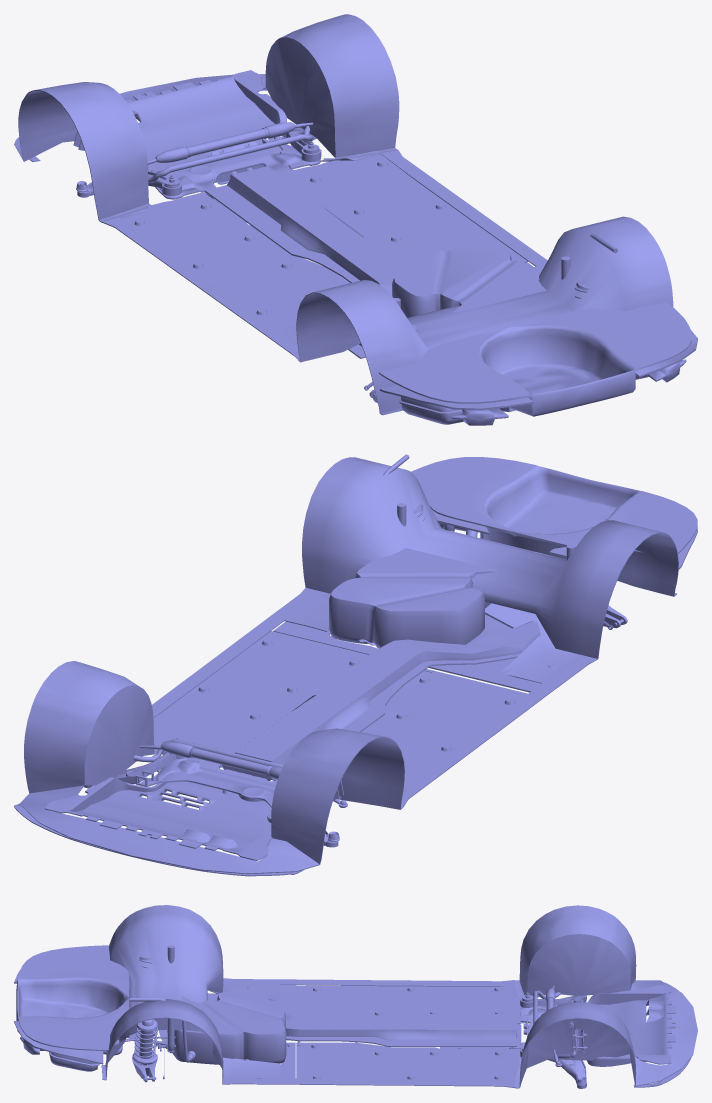
File: dipan.FBX
The picture shows the model from 3 angles, top to bottom: view 1: azimuth 30°, elevation 25°; view 2: azimuth 150°, elevation 25°; view 3: azimuth 270°, elevation 25°; orthographic projection. The views are drawn at different scales.
Parts seen in each view (by area): view 1: dibanAA, youdiban005, beitaidiban, guanziban001, qiandibanA002, youxiang001, qianzhuanxiang, qiandiban001, beitaizuodiban001, Plane017001, weiqiguanB; view 2: dibanAA, youdiban005, beitaidiban, guanziban001, youxiang001, qiandibanA002, qianzhuanxiang, qiandiban001, houzuodiban001, beitaizuodiban001, houyoudiban001, Object; view 3: dibanAA, youdiban005, beitaidiban, guanziban001, youxiang001, qiandibanA002, qianzhuanxiang, Object26002, beittaiyoudiban001, houzuodiban001, Plane017001, houyoudiban001 (+3 smaller).
Boxes of the visible parts, <box> form: dibanAA: <box>14,14,673,415</box>; youdiban005: <box>114,150,527,321</box>; beitaidiban: <box>379,302,692,416</box>; guanziban001: <box>205,166,406,358</box>; qiandibanA002: <box>125,70,286,170</box>; youxiang001: <box>392,239,546,317</box>; qianzhuanxiang: <box>73,122,321,197</box>; qiandiban001: <box>147,134,320,199</box>; beitaizuodiban001: <box>380,384,533,412</box>; Plane017001: <box>399,375,648,424</box>; weiqiguanB: <box>452,408,508,425</box>; dibanAA: <box>19,457,678,874</box>; youdiban005: <box>153,631,527,806</box>; beitaidiban: <box>411,457,697,559</box>; guanziban001: <box>219,614,540,764</box>; youxiang001: <box>329,548,497,648</box>; qiandibanA002: <box>44,777,272,860</box>; qianzhuanxiang: <box>84,738,347,847</box>; qiandiban001: <box>136,757,277,807</box>; houzuodiban001: <box>428,614,556,692</box>; beitaizuodiban001: <box>485,528,697,628</box>; houyoudiban001: <box>273,621,378,654</box>; Object: <box>14,803,303,876</box>; dibanAA: <box>101,905,697,1088</box>; youdiban005: <box>296,986,521,1081</box>; beitaidiban: <box>16,945,129,1050</box>; guanziban001: <box>207,993,516,1046</box>; youxiang001: <box>167,991,286,1064</box>; qiandibanA002: <box>586,985,675,1066</box>; qianzhuanxiang: <box>520,986,587,1088</box>; Object26002: <box>132,1019,157,1065</box>; beittaiyoudiban001: <box>14,1021,119,1064</box>; houzuodiban001: <box>247,985,296,1016</box>; Plane017001: <box>49,1052,99,1071</box>; houyoudiban001: <box>280,1042,295,1078</box>.
Bounding box in the file's own units: 1.9 × 0.6616 × 4.88.
